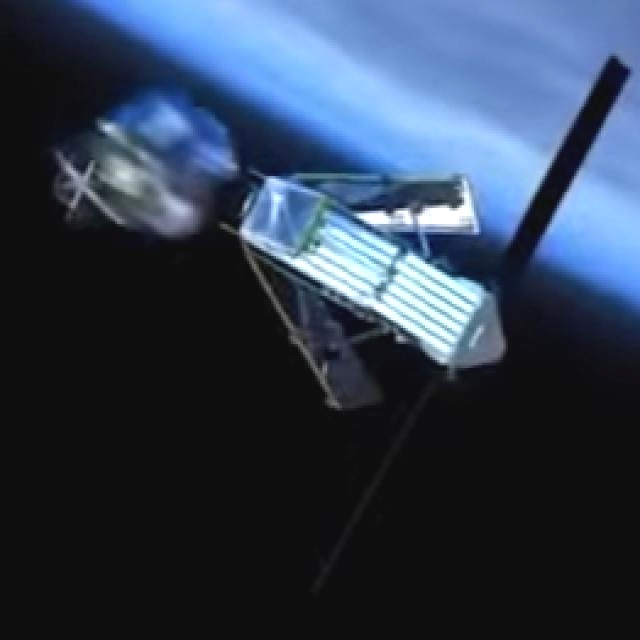large_debris: (24, 16, 574, 445)
